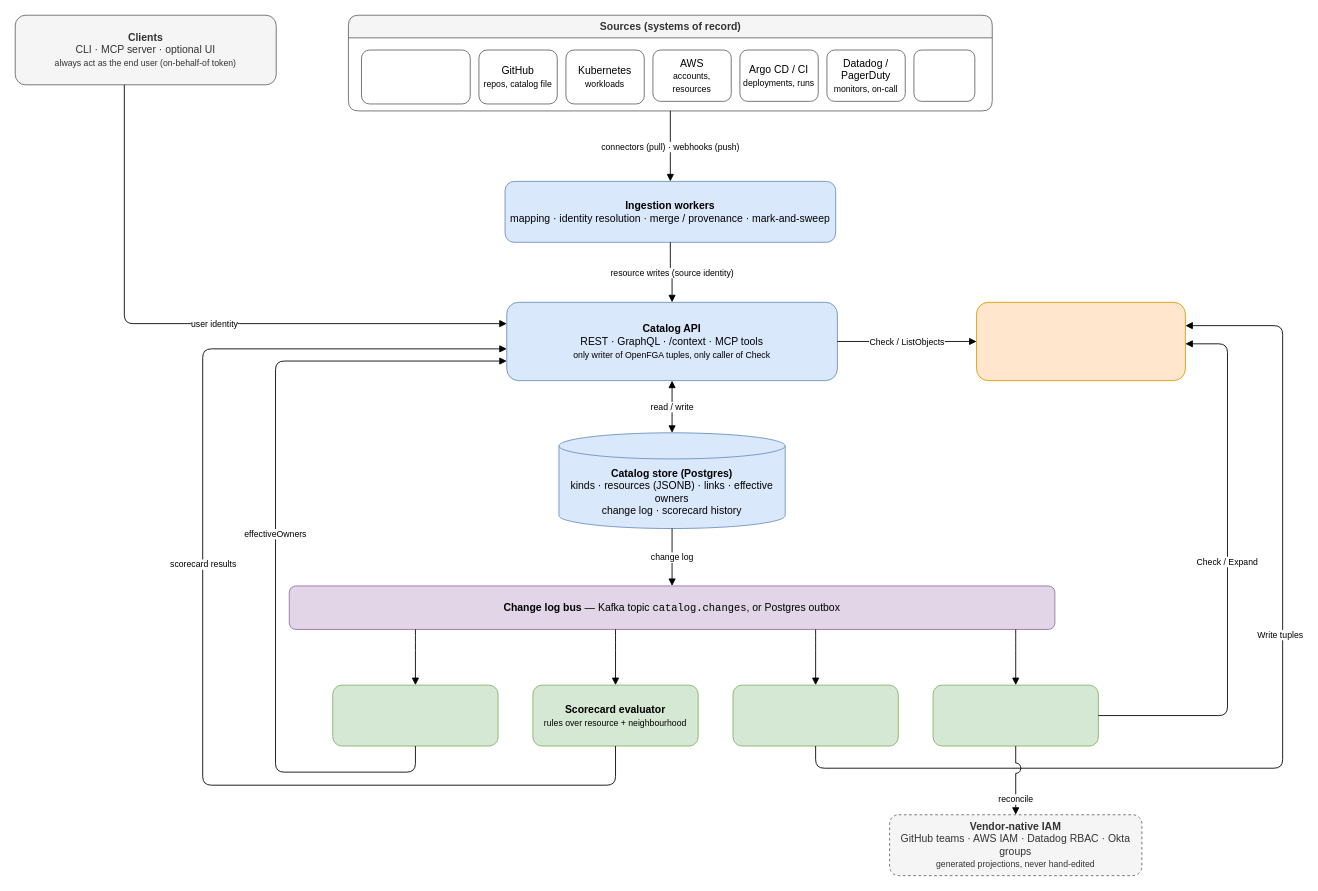
The diagram is 1318 pixels wide and 891 high, and some of its shapes have lost their labels. The centre of each missing label's shape, as x and y in pixels:
"git teams, kinds, actions" belongs at pixel 944 75.
"IAM sync controllers reconcile vendor IAM from decisions" belongs at pixel 1015 715.
"Identity provider Entra ID · Okta · Zitadel · LDAP users, groups" belongs at pixel 415 76.
"OpenFGA authorization model + tuples resource → team → identity_group → user" belongs at pixel 1080 341.
"OpenFGA tuple sync owners, members, kind grants" belongs at pixel 815 715.
"Ownership resolver grants / inherits links → effectiveOwners" belongs at pixel 415 715.
